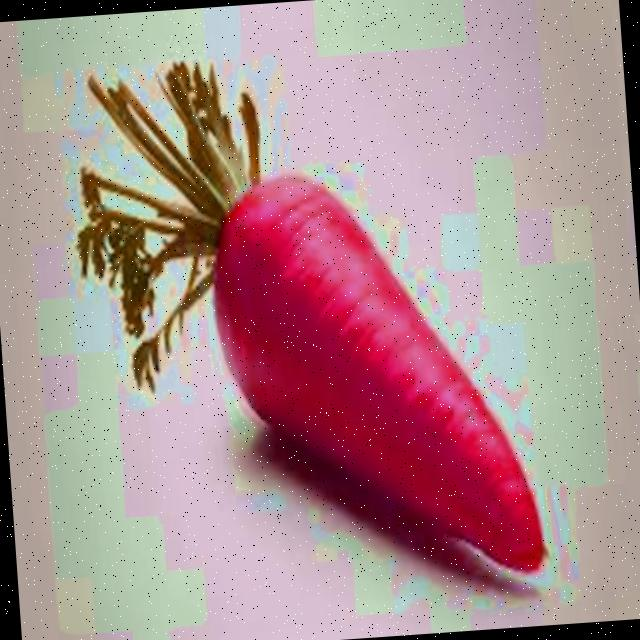carrot: (77, 62, 543, 570)
